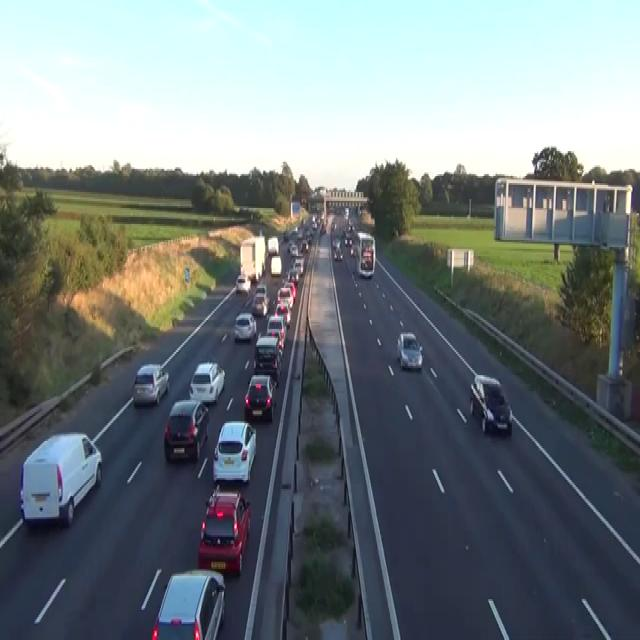Car: (19, 432, 102, 528), (151, 567, 225, 638), (197, 487, 251, 574), (163, 398, 209, 462), (212, 420, 256, 486), (469, 374, 512, 436), (132, 363, 169, 407), (188, 361, 225, 403), (253, 332, 282, 384), (244, 374, 275, 422), (396, 330, 423, 370), (233, 311, 256, 341), (266, 314, 286, 348), (266, 329, 284, 359), (251, 292, 269, 316), (274, 302, 291, 327), (276, 286, 293, 308), (235, 274, 251, 293), (287, 267, 299, 286), (292, 258, 304, 276), (285, 281, 296, 300), (255, 283, 267, 295), (333, 247, 343, 261), (331, 236, 341, 249), (290, 244, 299, 256), (286, 240, 295, 252), (304, 229, 312, 242), (300, 238, 308, 251), (319, 222, 326, 235), (311, 215, 317, 229), (330, 219, 337, 231), (350, 244, 356, 256), (283, 229, 289, 240), (300, 196, 306, 204)
Truck: (239, 235, 266, 282), (355, 231, 375, 277), (270, 254, 281, 276), (267, 235, 279, 254), (290, 201, 300, 219)
